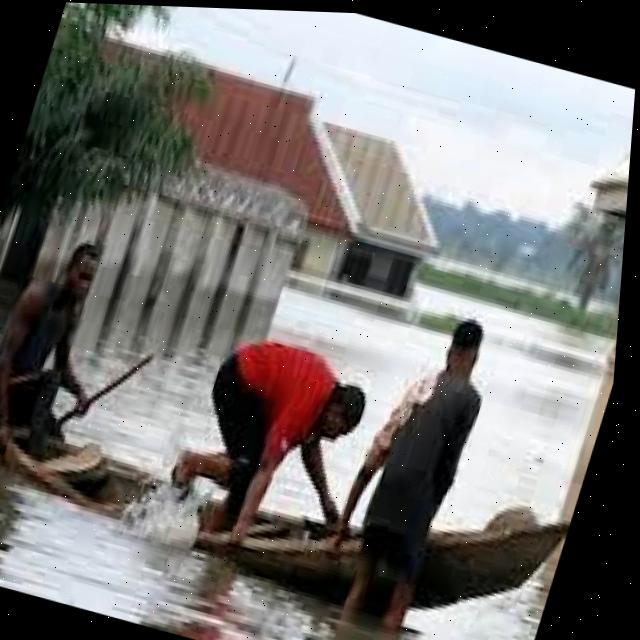civilian: (324, 290, 513, 640), (154, 310, 387, 580), (0, 219, 143, 479)
